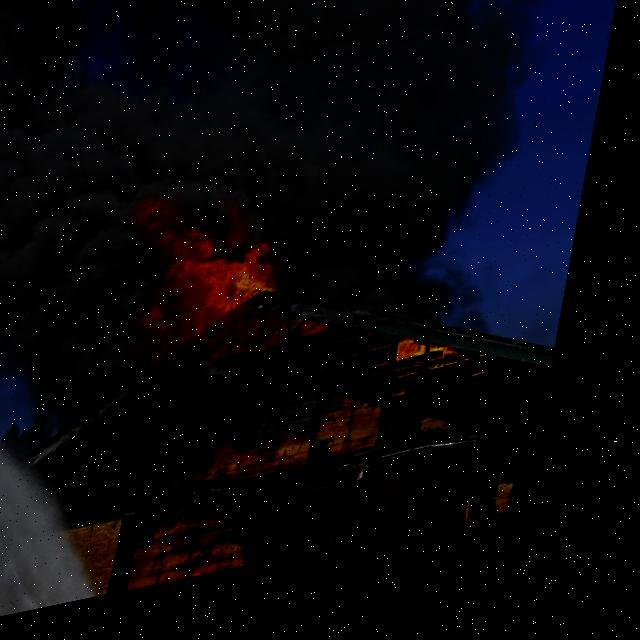Fire: (106, 166, 370, 400), (400, 340, 490, 396)
